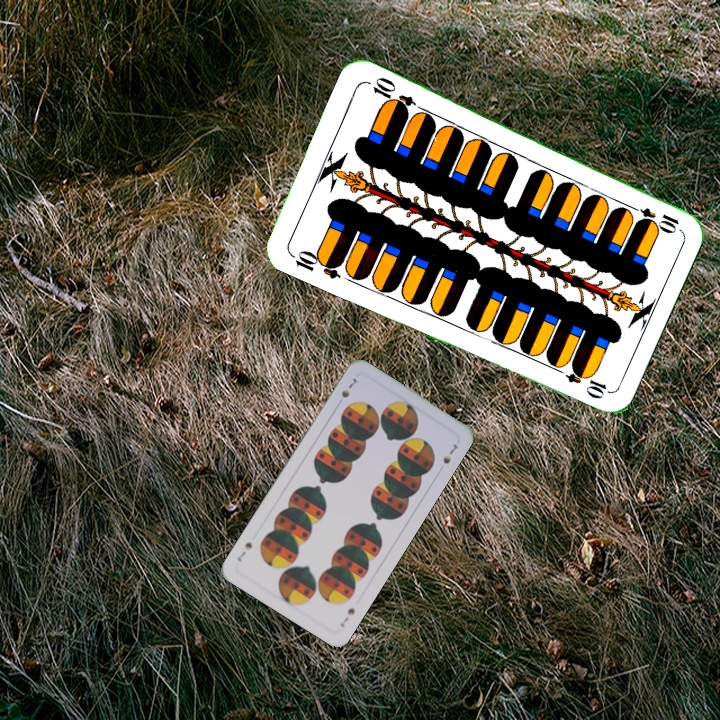E10: (286, 246, 345, 282), (624, 201, 682, 235)
S7: (337, 374, 360, 400), (336, 604, 358, 630)
